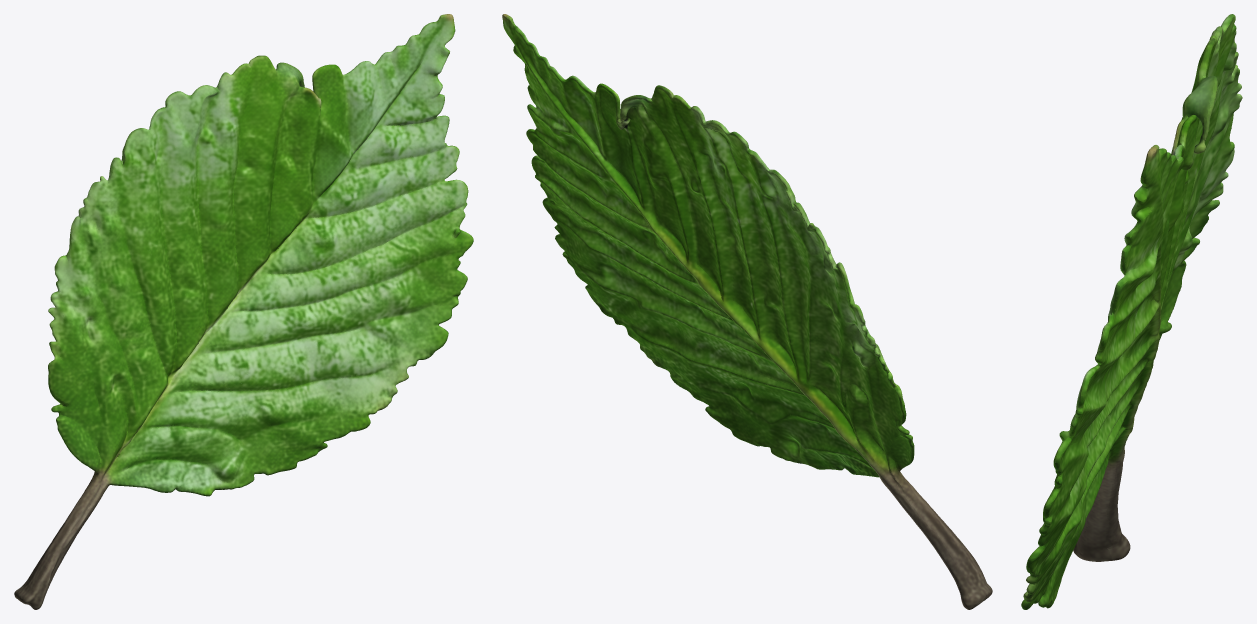
Rendered from task-4891908.glb.
The picture shows the model from 3 angles, left to right: view 1: azimuth 30°, elevation 25°; view 2: azimuth 150°, elevation 25°; view 3: azimuth 270°, elevation 25°; orthographic projection. The views are drawn at different scales.
Parts seen in each view (by area): view 1: world; view 2: world; view 3: world.
Boxes of the visible parts, x1,y1,x2,y2 form: world: (14,14,473,609); world: (502,14,992,609); world: (1021,14,1242,609).
Size of the model in its own units: 0.12 by 0.1203 by 0.0325.
1 material, 1 textured.
